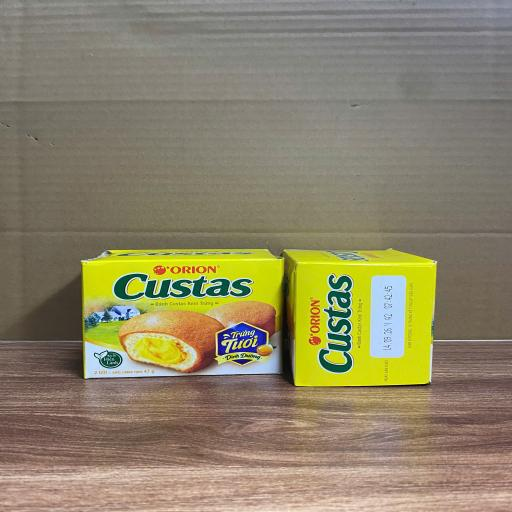custas: (81, 248, 285, 380), (283, 248, 437, 387)
